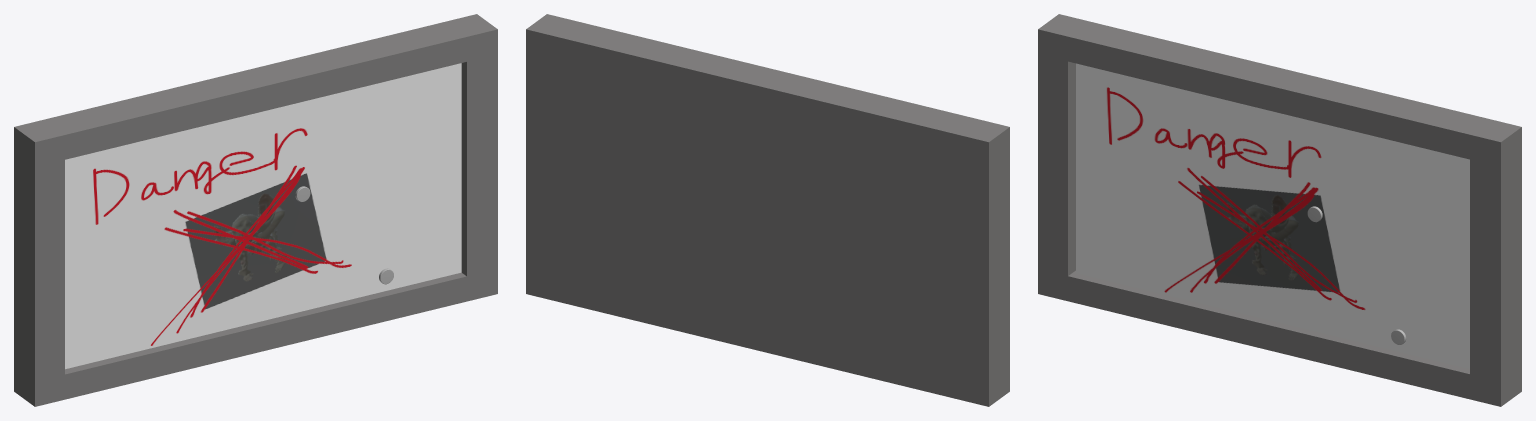
The model's file is boad2.fbx.
3 views of the same model, side by side, from view 1: azimuth 30°, elevation 25°; view 2: azimuth 150°, elevation 25°; view 3: azimuth 330°, elevation 25° (orthographic).
Visible parts, largest first — view 1: 平面, Cube; view 2: Cube; view 3: 平面, Cube.
Boxes of the visible parts, <box> form: 平面: <box>65,63,461,369</box>; Cube: <box>14,14,497,406</box>; Cube: <box>526,14,1009,406</box>; 平面: <box>1076,63,1469,368</box>; Cube: <box>1038,14,1521,406</box>.
Bounding box in the file's own units: 366 × 200 × 28.72.
Materials: 4 (1 with a texture image).
